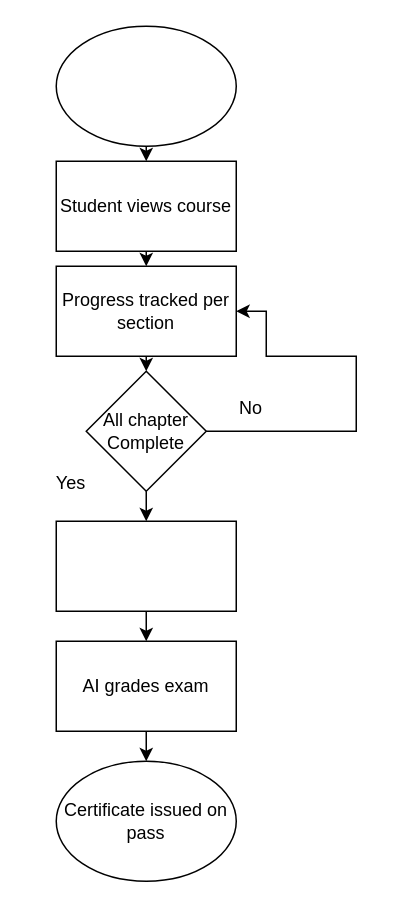
Some shapes in this 395 by 908 pixel diagram are drawn without their labels. The centre of each missing label's shape, as x and y in pixels:
"Student browses homepage" goes at [145,85].
"Student takes proctored timed exam" goes at [145,565].
